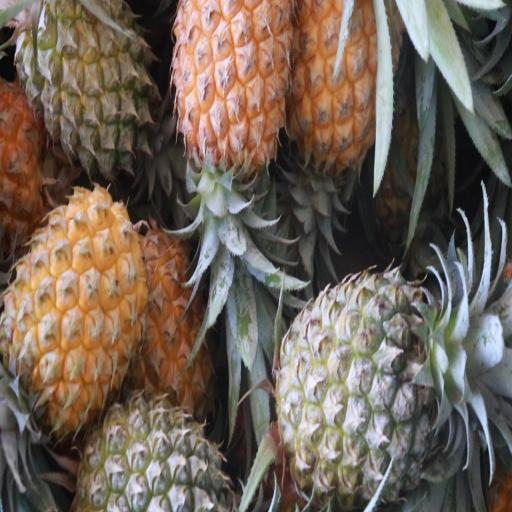------------------------------: (20, 0, 154, 174)
Pineapple - v8 v1: (0, 185, 147, 430), (176, 0, 292, 175), (292, 0, 403, 165), (136, 228, 228, 416)
